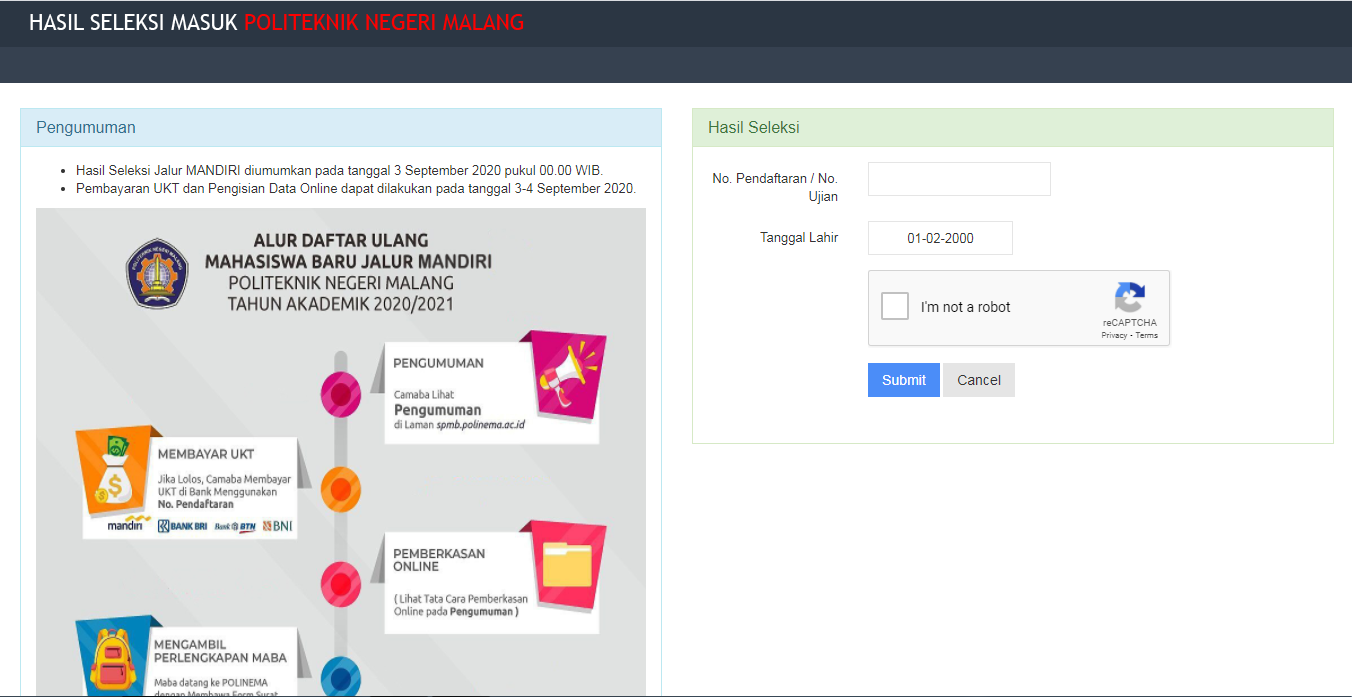Button: (942, 361, 1017, 400), (868, 360, 942, 397)
Image: (36, 205, 646, 697)
Side Bar: (14, 107, 664, 697), (698, 107, 1332, 438)
Text Field: (865, 157, 1058, 201), (865, 214, 1019, 264)
